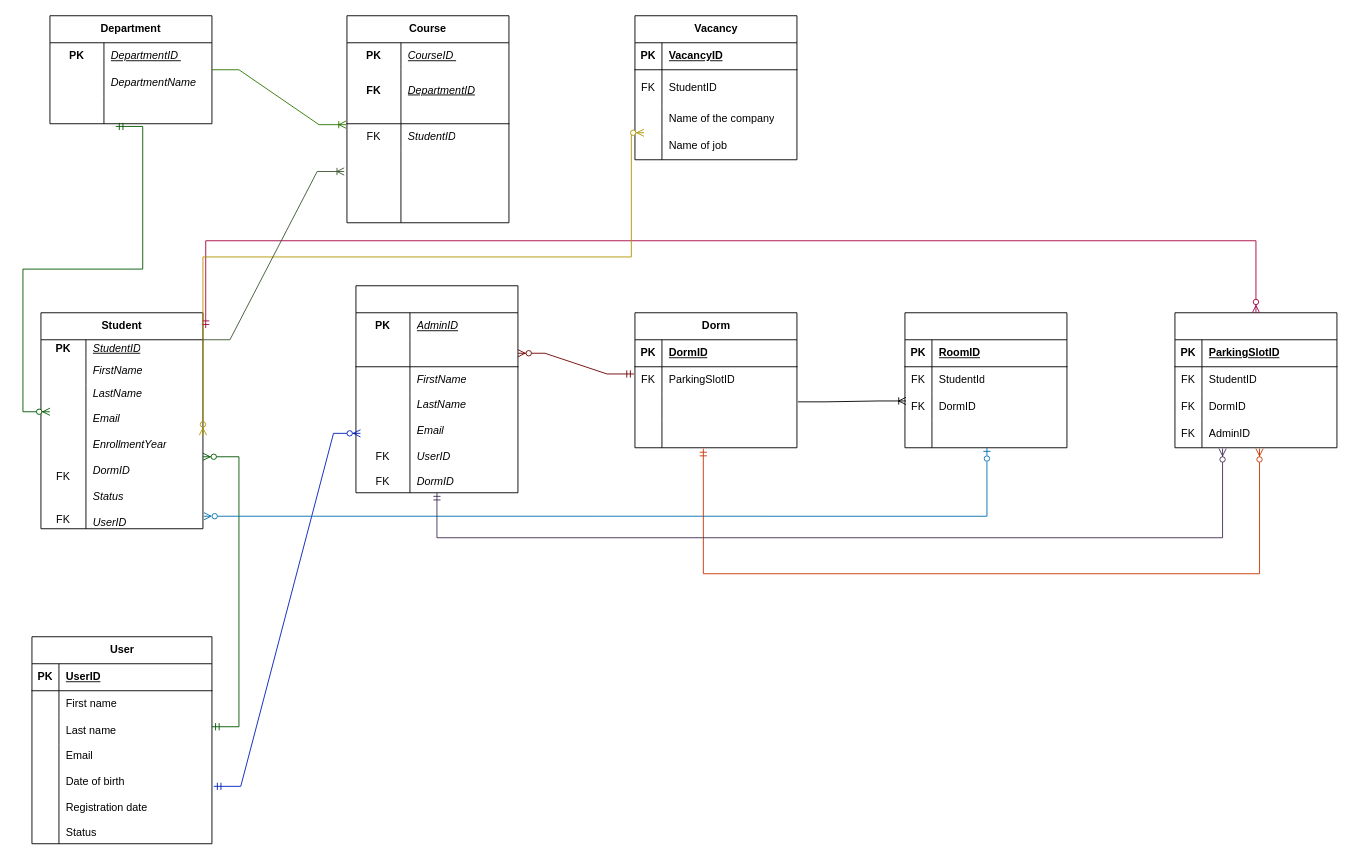
This 1353x860 diagram has some shape labels left out. The shapes that lost their labels are listed below. From the top down, each one's box as (x1, y1, x2, y2) in pixels, then its label:
(355, 285, 518, 493): Admin of the dorm
(904, 312, 1067, 448): Rooms
(1174, 312, 1337, 448): Parking slots
